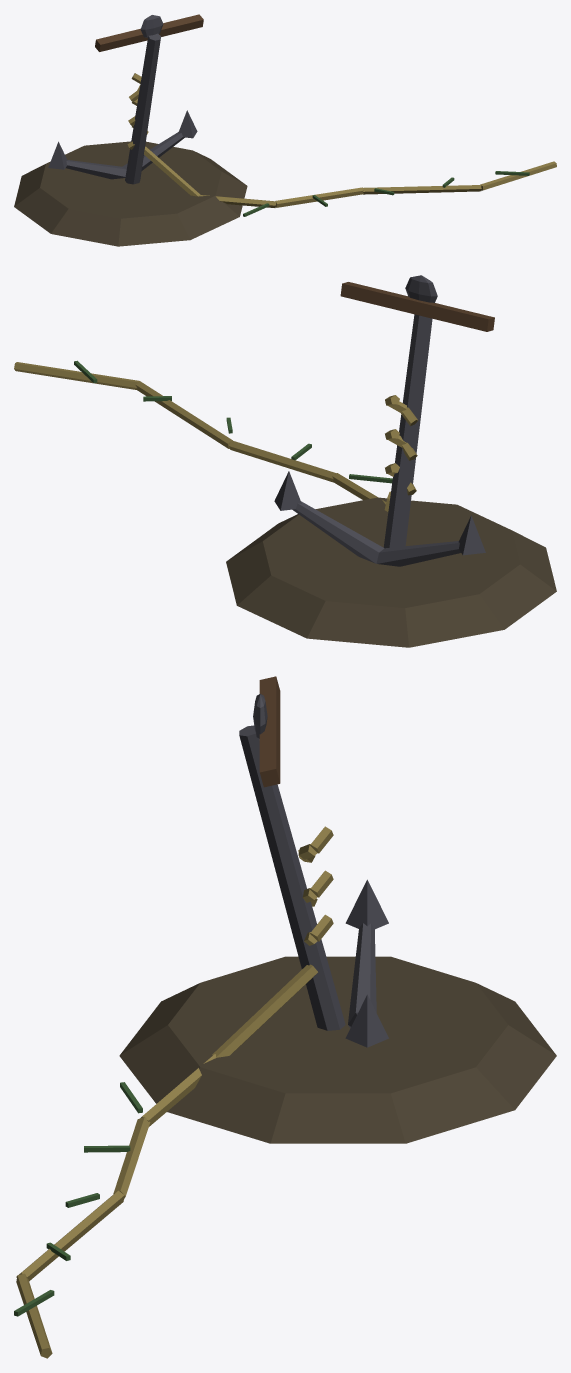
File: prop_trace_anchor_rope.glb
3 renders of one model, top to bottom at view 1: azimuth 30°, elevation 25°; view 2: azimuth 150°, elevation 25°; view 3: azimuth 270°, elevation 25°, orthographic. The views are drawn at different scales.
Visible parts, largest first — view 1: prop_trace_anchor_rope; view 2: prop_trace_anchor_rope; view 3: prop_trace_anchor_rope.
Boxes of the visible parts, x1,y1,x2,y2 form: prop_trace_anchor_rope: [14, 14, 556, 246]; prop_trace_anchor_rope: [14, 275, 556, 647]; prop_trace_anchor_rope: [14, 676, 556, 1358].
Size of the model in its own units: 3.86 by 1.64 by 2.23.
